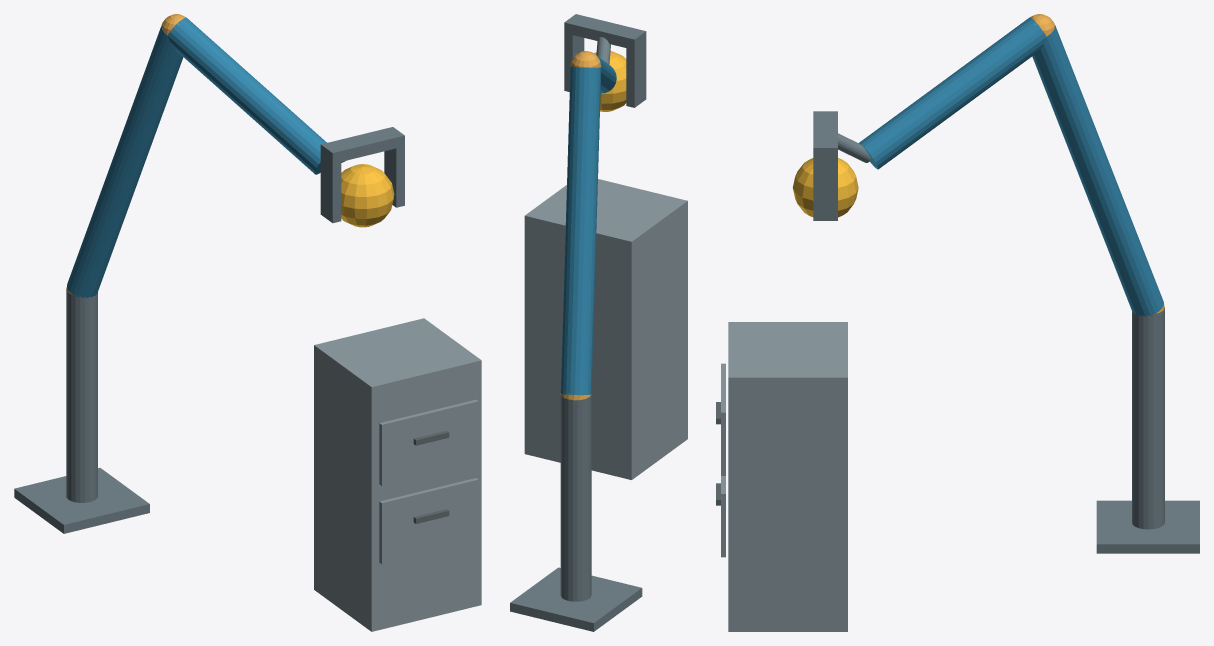
3 renders of one model, left to right at view 1: azimuth 30°, elevation 25°; view 2: azimuth 150°, elevation 25°; view 3: azimuth 270°, elevation 25°, orthographic. The views are drawn at different scales.
Parts seen in each view (by area): view 1: cabinet_1 body, moving link 1, fixed post, moving link 2, cabinet_1 drawer front, cabinet_1 drawer front.001, pedestal, ball ball_1, gripper bridge, gripper finger -1, gripper finger 1; view 2: cabinet_1 body, moving link 1, fixed post, pedestal, gripper bridge, gripper finger -1, ball ball_1, gripper finger 1, moving link 2, joint 2, gripper wrist connector; view 3: cabinet_1 body, moving link 1, moving link 2, fixed post, pedestal, ball ball_1, gripper finger 1, gripper bridge.
Part boxes in pixels (left/top/right/bottom): cabinet_1 body: left=314, top=318, right=481, bottom=631; moving link 1: left=67, top=24, right=183, bottom=297; fixed post: left=66, top=288, right=97, bottom=502; moving link 2: left=167, top=17, right=326, bottom=174; cabinet_1 drawer front: left=379, top=478, right=478, bottom=564; cabinet_1 drawer front.001: left=379, top=399, right=478, bottom=485; pedestal: left=14, top=468, right=149, bottom=533; ball ball_1: left=341, top=164, right=394, bottom=227; gripper bridge: left=320, top=127, right=404, bottom=163; gripper finger -1: left=320, top=155, right=341, bottom=223; gripper finger 1: left=384, top=146, right=404, bottom=207; cabinet_1 body: left=524, top=179, right=687, bottom=479; moving link 1: left=560, top=66, right=601, bottom=395; fixed post: left=560, top=394, right=591, bottom=601; pedestal: left=510, top=567, right=642, bottom=631; gripper bridge: left=564, top=14, right=646, bottom=49; gripper finger -1: left=626, top=42, right=646, bottom=107; ball ball_1: left=594, top=51, right=626, bottom=111; gripper finger 1: left=564, top=33, right=584, bottom=91; moving link 2: left=571, top=52, right=616, bottom=93; joint 2: left=570, top=51, right=601, bottom=67; gripper wrist connector: left=596, top=37, right=610, bottom=64; cabinet_1 body: left=728, top=322, right=847, bottom=631; moving link 1: left=1032, top=25, right=1163, bottom=316; moving link 2: left=859, top=17, right=1046, bottom=169; fixed post: left=1132, top=308, right=1164, bottom=529; pedestal: left=1096, top=500, right=1199, bottom=553; ball ball_1: left=792, top=158, right=858, bottom=217; gripper finger 1: left=813, top=159, right=837, bottom=220; gripper bridge: left=813, top=111, right=837, bottom=159.
Size of the model in its own units: 0.6992 by 1.44 by 1.17.
